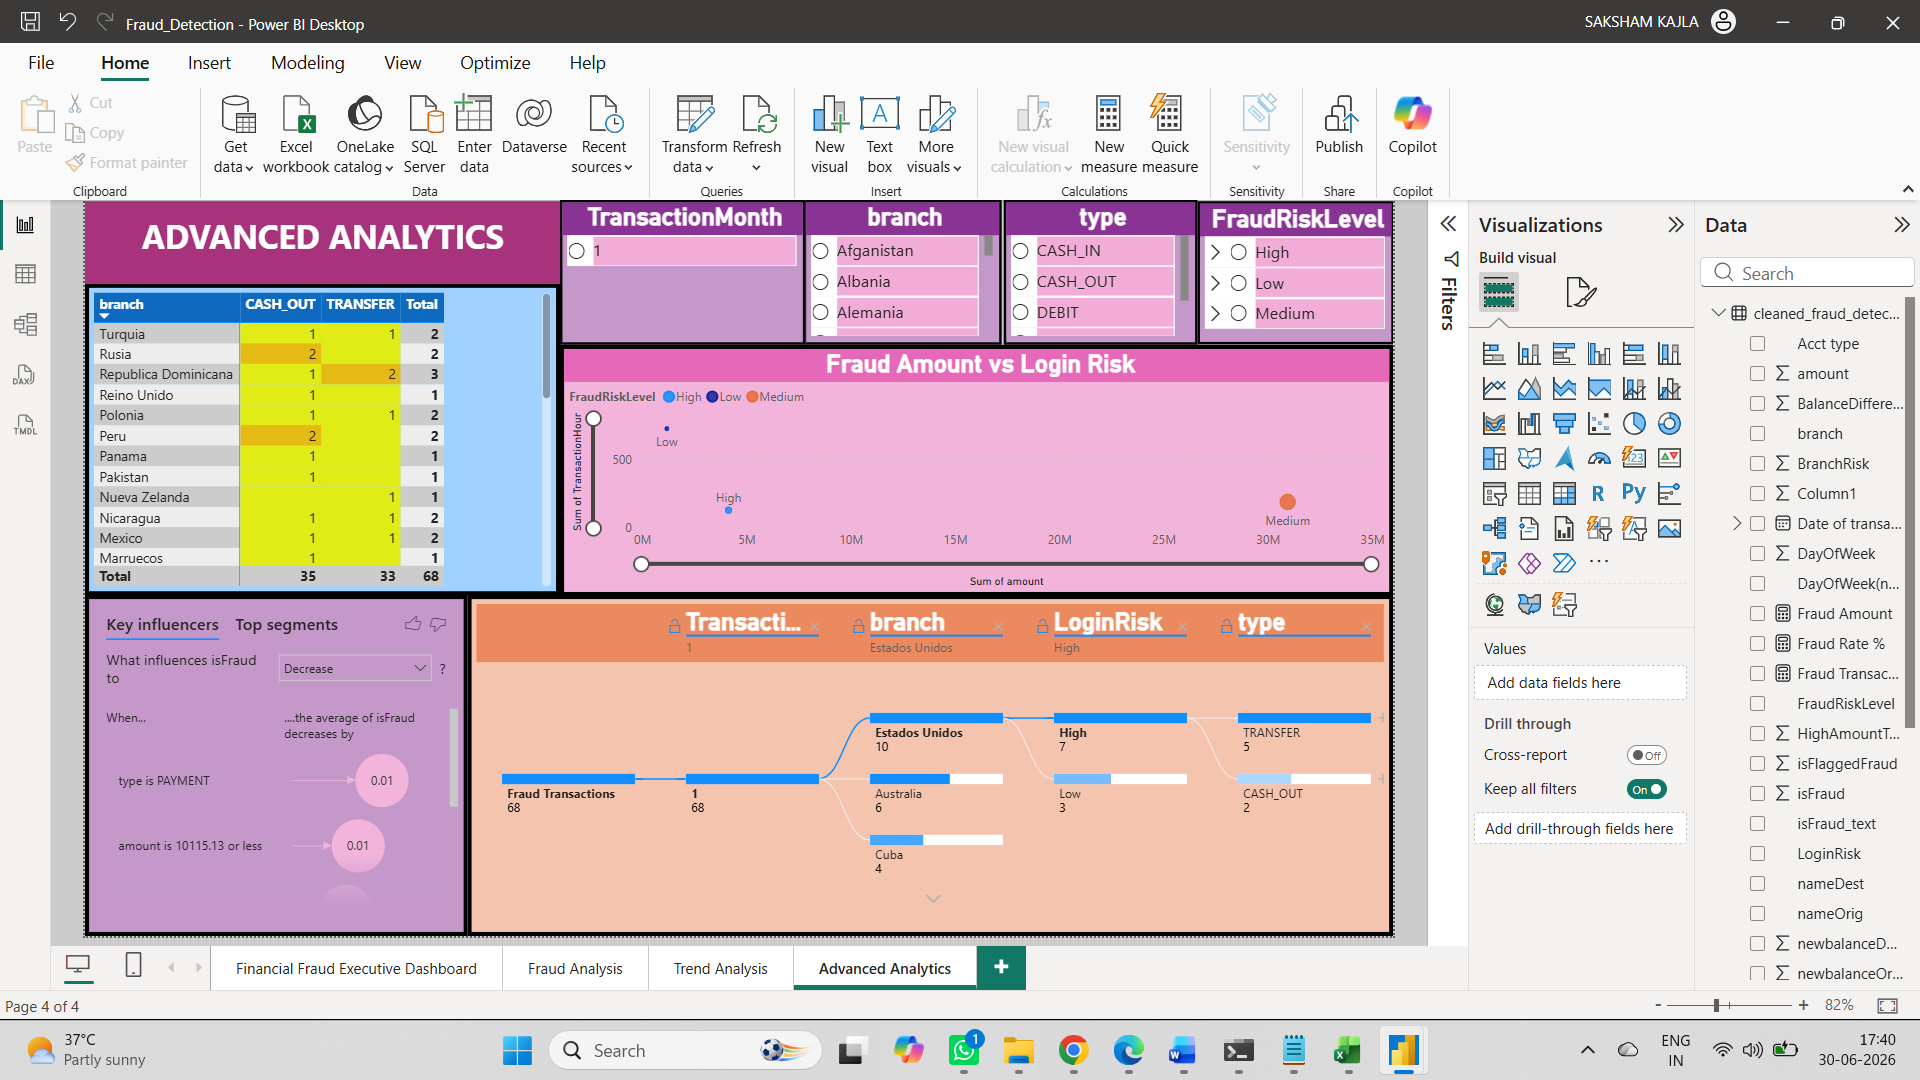

The page's visual inventory and layout, read from the dashboard file:
{"tool":"powerbi","page":{"name":"Advanced Analytics","canvas":[1280,720],"ordinal":3},"visuals":[{"type":"pivotTable","fields":{"Rows":["cleaned_fraud_detection.branch"],"Columns":["cleaned_fraud_detection.type"],"Values":["cleaned_fraud_detection.Fraud Transactions"]},"box":[0,82.3,465.2,304.6],"z":0},{"type":"scatterChart","title":"Fraud Amount vs Login Risk","fields":{"X":["Sum(cleaned_fraud_detection.amount)"],"Series":["cleaned_fraud_detection.FraudRiskLevel"],"Size":["Sum(cleaned_fraud_detection.amount)"],"Y":["Sum(cleaned_fraud_detection.TransactionHour)"]},"box":[465.2,141.3,815.1,245.6],"z":1000},{"type":"keyDriversVisual","fields":{"Target":["cleaned_fraud_detection.isFraud"],"ExplainBy":["cleaned_fraud_detection.amount","cleaned_fraud_detection.LoginRisk","cleaned_fraud_detection.branch","cleaned_fraud_detection.type","cleaned_fraud_detection.FraudRiskLevel"]},"box":[0,386.4,374.2,333.8],"z":2000},{"type":"decompositionTreeVisual","fields":{"Analyze":["cleaned_fraud_detection.Fraud Transactions"],"ExplainBy":["cleaned_fraud_detection.TransactionMonth","cleaned_fraud_detection.branch","cleaned_fraud_detection.LoginRisk","cleaned_fraud_detection.type","cleaned_fraud_detection.FraudRiskLevel","cleaned_fraud_detection.TransactionCategory"]},"box":[374.6,387,905.7,333.4],"z":3000},{"type":"listSlicer","fields":{"Values":["cleaned_fraud_detection.FraudRiskLevel","cleaned_fraud_detection.type"]},"box":[1088.2,1.4,192.1,140],"z":4000},{"type":"listSlicer","fields":{"Values":["cleaned_fraud_detection.branch"]},"box":[702.6,0,193.5,141.3],"z":5000},{"type":"listSlicer","fields":{"Values":["cleaned_fraud_detection.TransactionMonth"]},"box":[465.2,0,240.1,141.3],"z":6000},{"type":"listSlicer","fields":{"Values":["cleaned_fraud_detection.type"]},"box":[898.8,0,189.4,141.3],"z":7000},{"type":"textbox","box":[0,1.4,465.2,81],"z":8000}]}

Visuals, with their boxes on the page's 1280x720 design canvas (x1, y1, x2, y2). These are canvas units, not pixel positions in the 1920x1080 screenshot, which may show the page scaled, cropped or inside an application window:
pivotTable - cleaned_fraud_detection.branch x cleaned_fraud_detection.type: box=[0, 82, 465, 387]
"Fraud Amount vs Login Risk" scatterChart: box=[465, 141, 1280, 387]
keyDriversVisual - cleaned_fraud_detection.isFraud x cleaned_fraud_detection.amount: box=[0, 386, 374, 720]
decompositionTreeVisual - cleaned_fraud_detection.Fraud Transactions x cleaned_fraud_detection.TransactionMonth: box=[375, 387, 1280, 720]
listSlicer - cleaned_fraud_detection.FraudRiskLevel x cleaned_fraud_detection.type: box=[1088, 1, 1280, 141]
listSlicer - cleaned_fraud_detection.branch: box=[703, 0, 896, 141]
listSlicer - cleaned_fraud_detection.TransactionMonth: box=[465, 0, 705, 141]
listSlicer - cleaned_fraud_detection.type: box=[899, 0, 1088, 141]
textbox: box=[0, 1, 465, 82]
